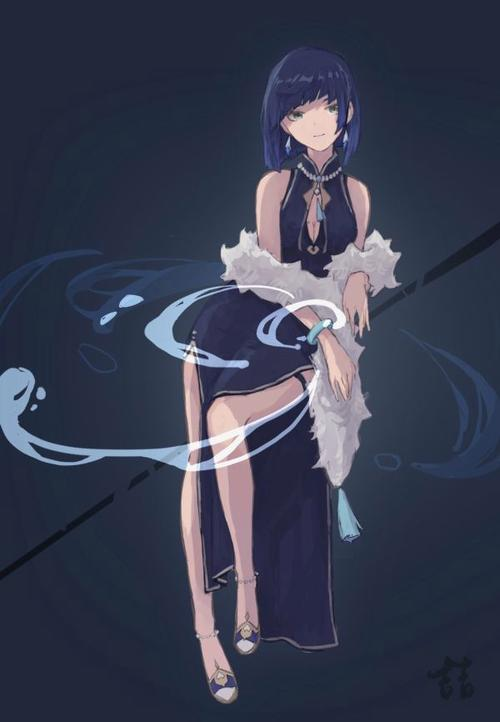夜兰: (174, 43, 376, 704)
